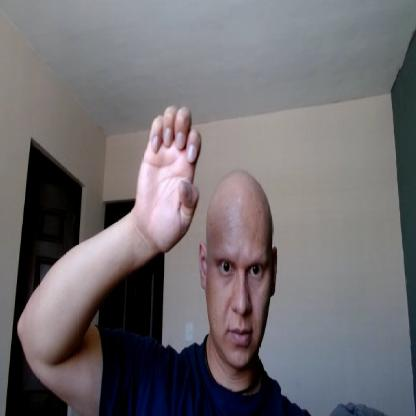E: (139, 104, 202, 252)
